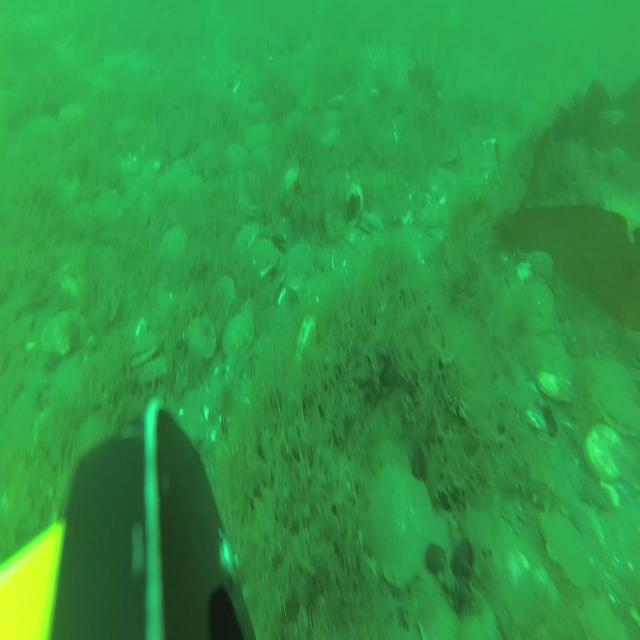scallop: (366, 447, 430, 578), (420, 579, 499, 640), (588, 354, 640, 440), (541, 508, 590, 588), (413, 508, 455, 592), (584, 417, 624, 485), (41, 311, 82, 363), (522, 279, 556, 333), (532, 337, 570, 382), (187, 309, 215, 360), (206, 280, 237, 326), (286, 243, 316, 290), (542, 362, 576, 402), (223, 312, 254, 352), (164, 224, 192, 268), (128, 326, 156, 365), (247, 242, 273, 280), (232, 220, 258, 256), (246, 125, 274, 156), (138, 357, 165, 389), (223, 146, 249, 176), (420, 200, 444, 228)
